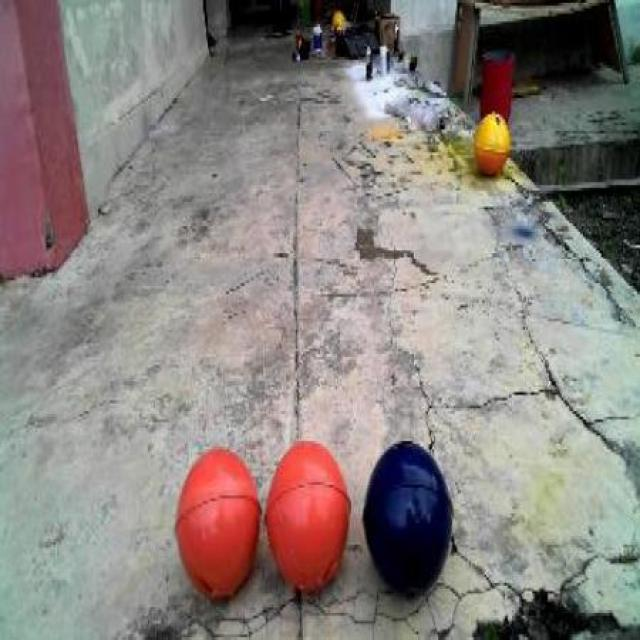buoy: (261, 428, 358, 606), (361, 434, 457, 606), (170, 438, 268, 602), (471, 98, 513, 186)
